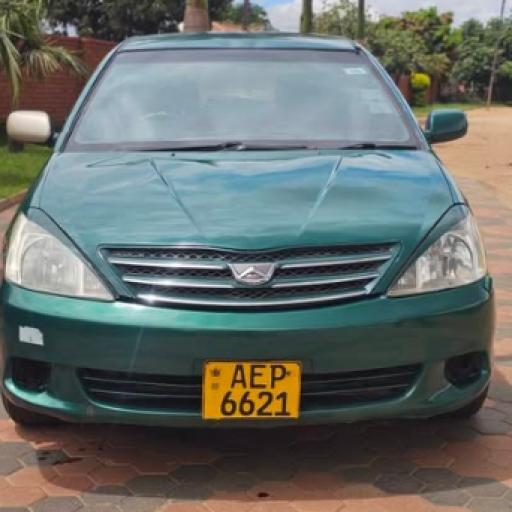number-plates: (204, 360, 296, 418)
